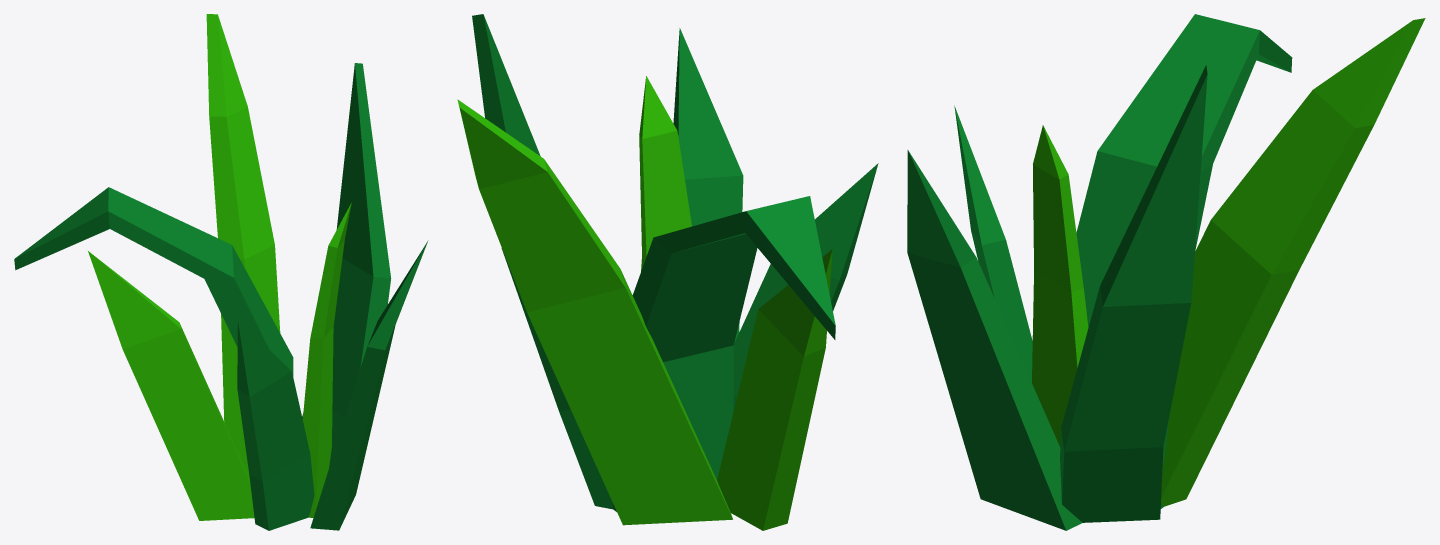
Rendered from gras.fbx.
3 renders of one model, left to right at view 1: azimuth 30°, elevation 25°; view 2: azimuth 150°, elevation 25°; view 3: azimuth 270°, elevation 25°, orthographic. The views are drawn at different scales.
Parts seen in each view (by area): view 1: Cube.006; view 2: Cube.006; view 3: Cube.006.
Boxes of the visible parts, x1,y1,x2,y2 form: Cube.006: (14,14,428,530); Cube.006: (457,14,878,530); Cube.006: (907,14,1425,530).
Bounding box in the file's own units: 0.1718 × 0.2 × 0.1853.
